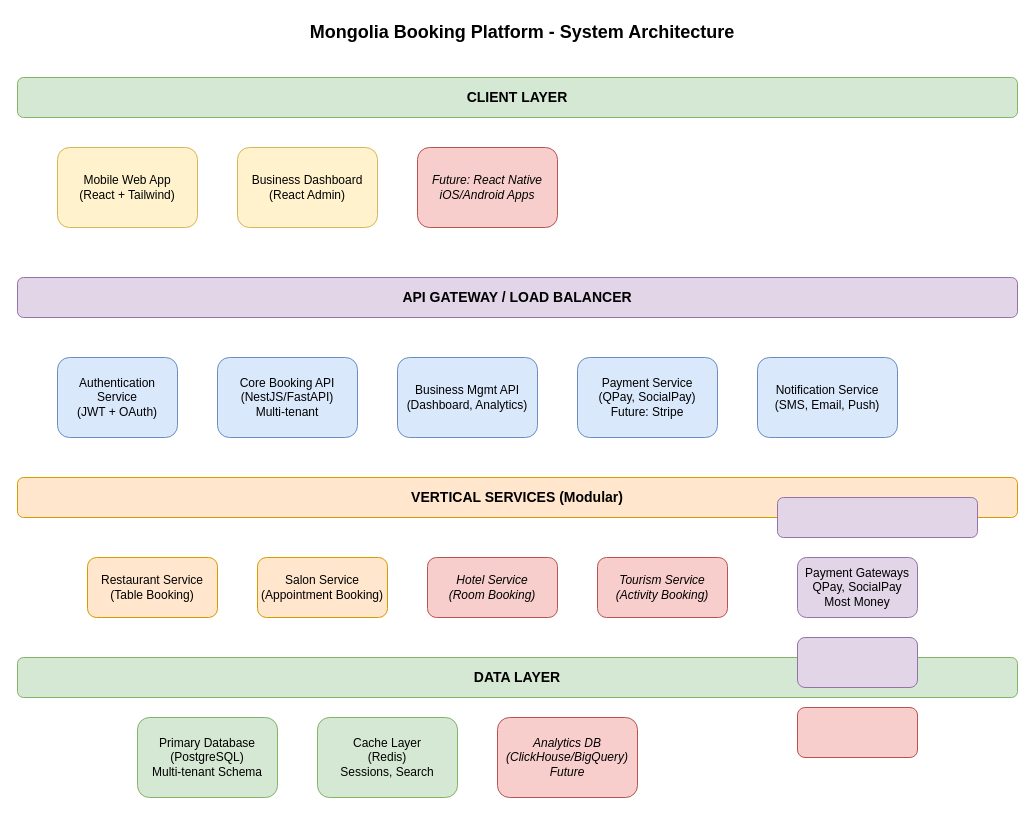
This 1035x815 diagram has some shape labels left out. The shapes that lost their labels are listed below. From the top down, each one's centre as x and y in pixels, then its label:
At pixel 877 517: "EXTERNAL INTEGRATIONS".
At pixel 857 662: "SMS/Email Providers".
At pixel 857 732: "Future: POS/PMS Integrations".
